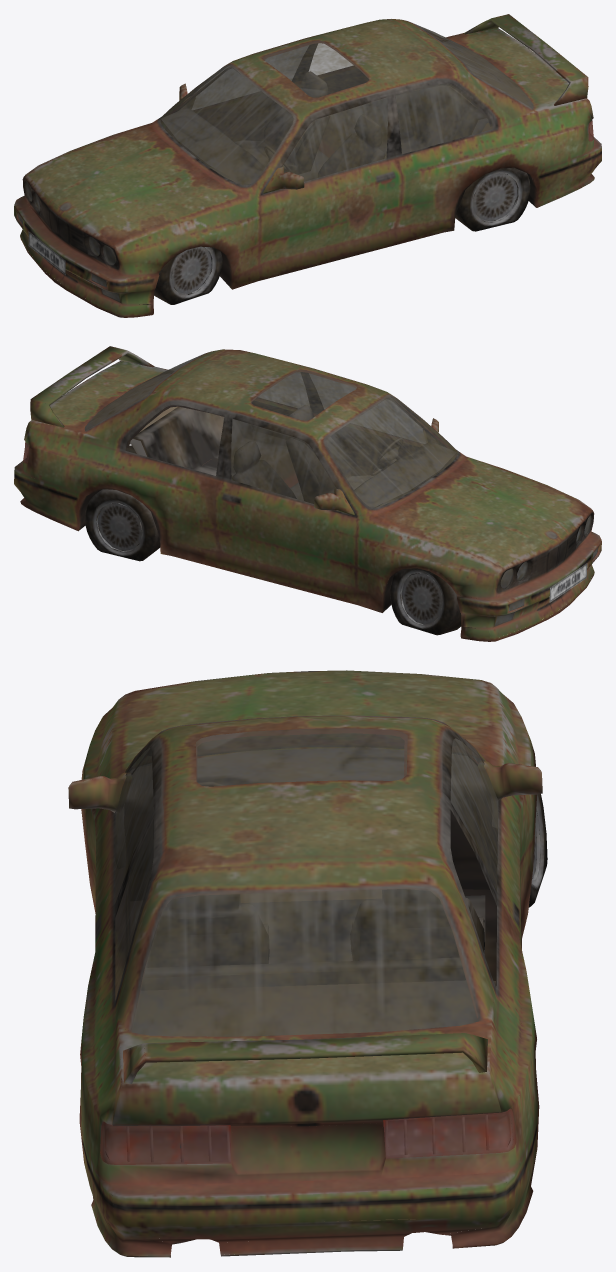
Rendered from car_bmw.glb.
3 views of the same model, one above another, from view 1: azimuth 30°, elevation 25°; view 2: azimuth 150°, elevation 25°; view 3: azimuth 270°, elevation 25° (orthographic). The views are drawn at different scales.
Visible parts, largest first — view 1: Object_3, Object_2; view 2: Object_3, Object_2; view 3: Object_3, Object_2.
Boxes of the visible parts, x1,y1,x2,y2 form: Object_3: [14, 19, 601, 316]; Object_2: [14, 14, 601, 317]; Object_3: [14, 349, 600, 641]; Object_2: [14, 346, 601, 641]; Object_3: [68, 670, 542, 1256]; Object_2: [69, 728, 547, 1257].
Size of the model in its own units: 4.4 by 1.32 by 1.79.
1 material, 1 textured.
